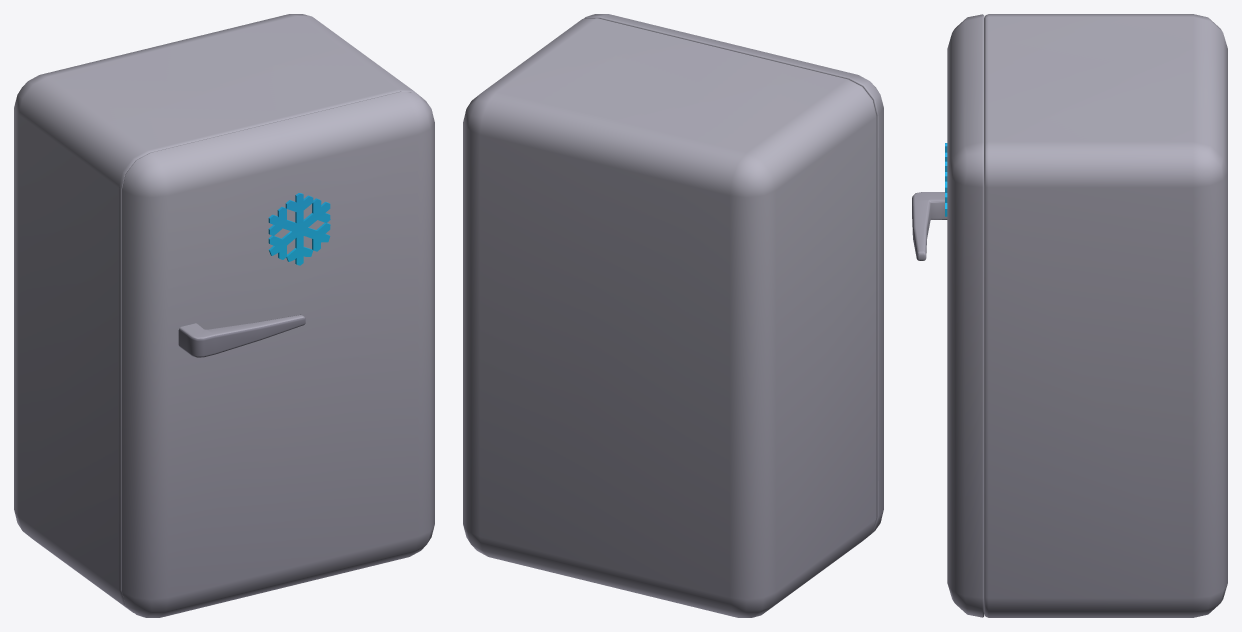
File: Freezer_M.fbx
3 views of the same model, side by side, from view 1: azimuth 30°, elevation 25°; view 2: azimuth 150°, elevation 25°; view 3: azimuth 270°, elevation 25° (orthographic). The views are drawn at different scales.
Visible parts, largest first — view 1: Door, Freezer; view 2: Freezer, Door; view 3: Freezer, Door.
Boxes of the visible parts, left/top/right/bottom form: Door: left=121, top=91, right=434, bottom=617; Freezer: left=14, top=14, right=421, bottom=612; Freezer: left=463, top=18, right=876, bottom=617; Door: left=583, top=14, right=883, bottom=532; Freezer: left=984, top=14, right=1227, bottom=617; Door: left=912, top=14, right=984, bottom=617.
Size of the model in its own units: 85.89 by 123 by 74.51.
Materials: 1 (1 with a texture image).
